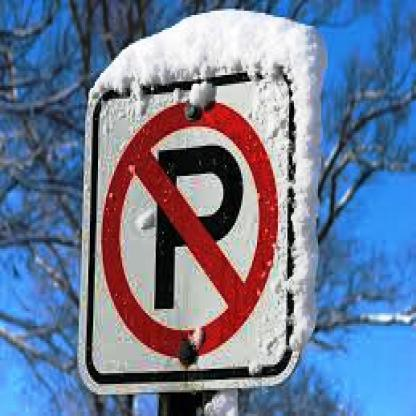No parking: (105, 99, 282, 366)
